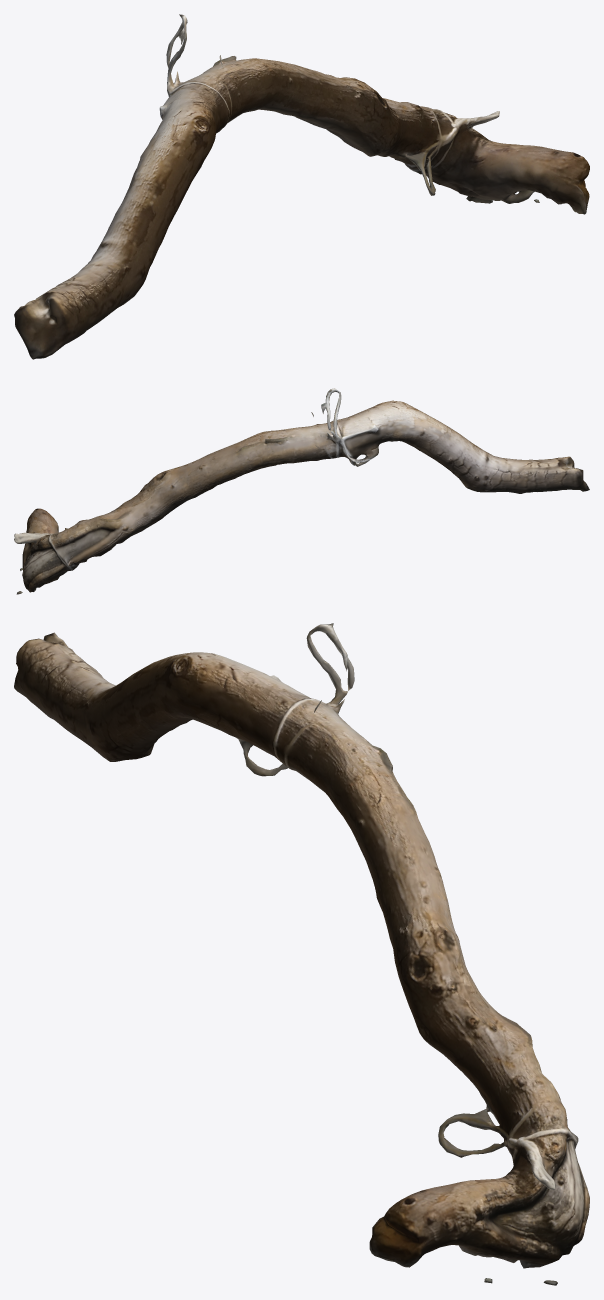
File: Crowbar_Stick.glb
3 renders of one model, top to bottom at view 1: azimuth 30°, elevation 25°; view 2: azimuth 150°, elevation 25°; view 3: azimuth 270°, elevation 25°, orthographic. The views are drawn at different scales.
Parts seen in each view (by area): view 1: 3DModel_LowPoly; view 2: 3DModel_LowPoly; view 3: 3DModel_LowPoly.
Boxes of the visible parts, left/top/right/bottom form: 3DModel_LowPoly: left=14, top=14, right=589, bottom=359; 3DModel_LowPoly: left=14, top=388, right=589, bottom=594; 3DModel_LowPoly: left=14, top=623, right=589, bottom=1285.
Bounding box in the file's own units: 0.7449 × 0.3457 × 0.4245.
Materials: 1 (1 with a texture image).
